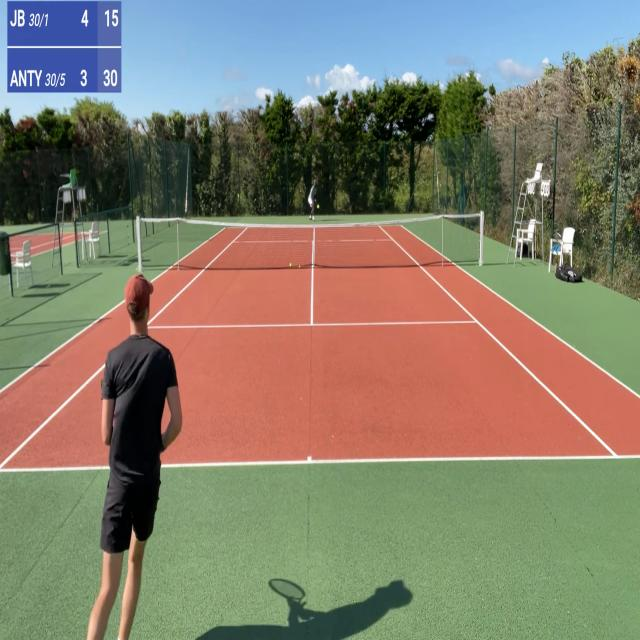ball: (288, 260, 293, 270), (317, 204, 320, 210), (298, 265, 301, 269)
